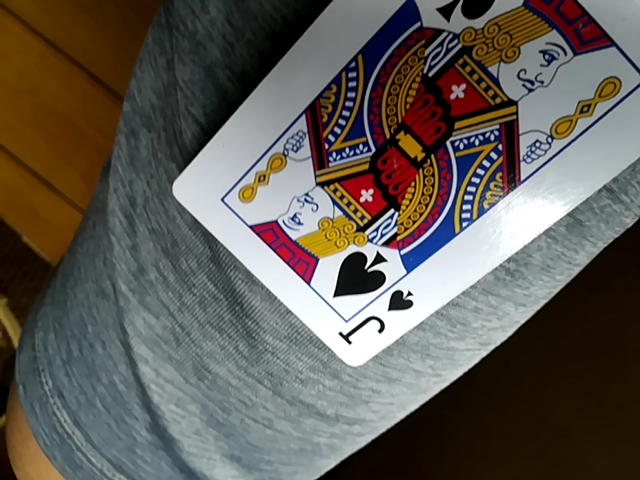ht j: (173, 2, 636, 365)
